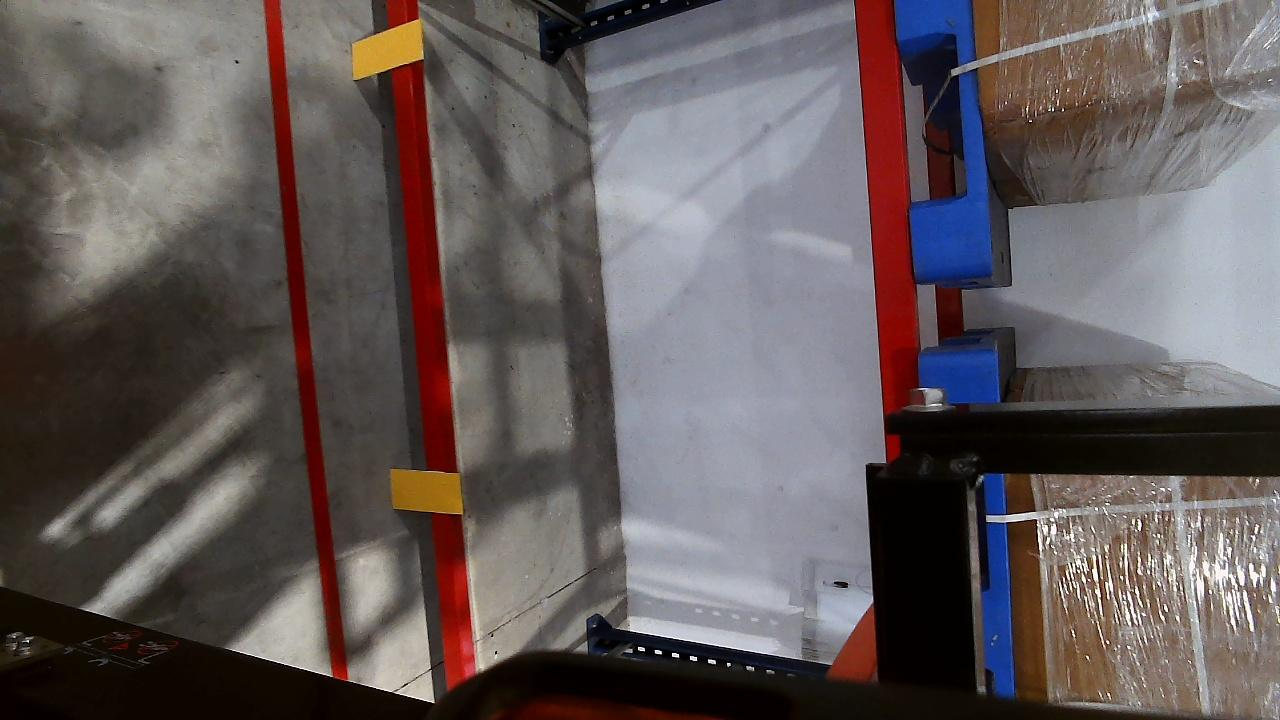h_rack: (388, 1, 466, 682), (851, 0, 922, 413)
orange_strip: (349, 18, 424, 74), (389, 468, 462, 514)
red_line: (266, 74, 346, 676)
small_pallet: (894, 5, 996, 273)
